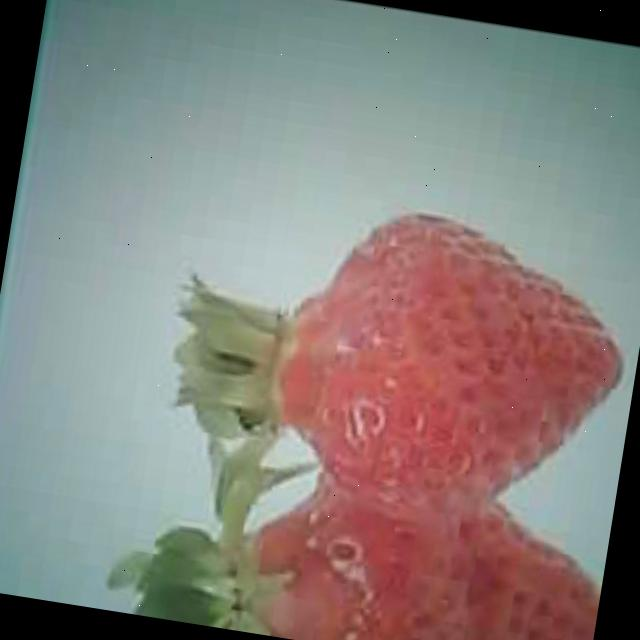strawberry: (264, 197, 640, 546), (227, 458, 612, 640)
